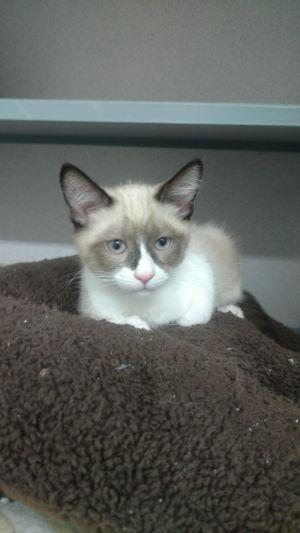ragdoll: (51, 153, 218, 316)
